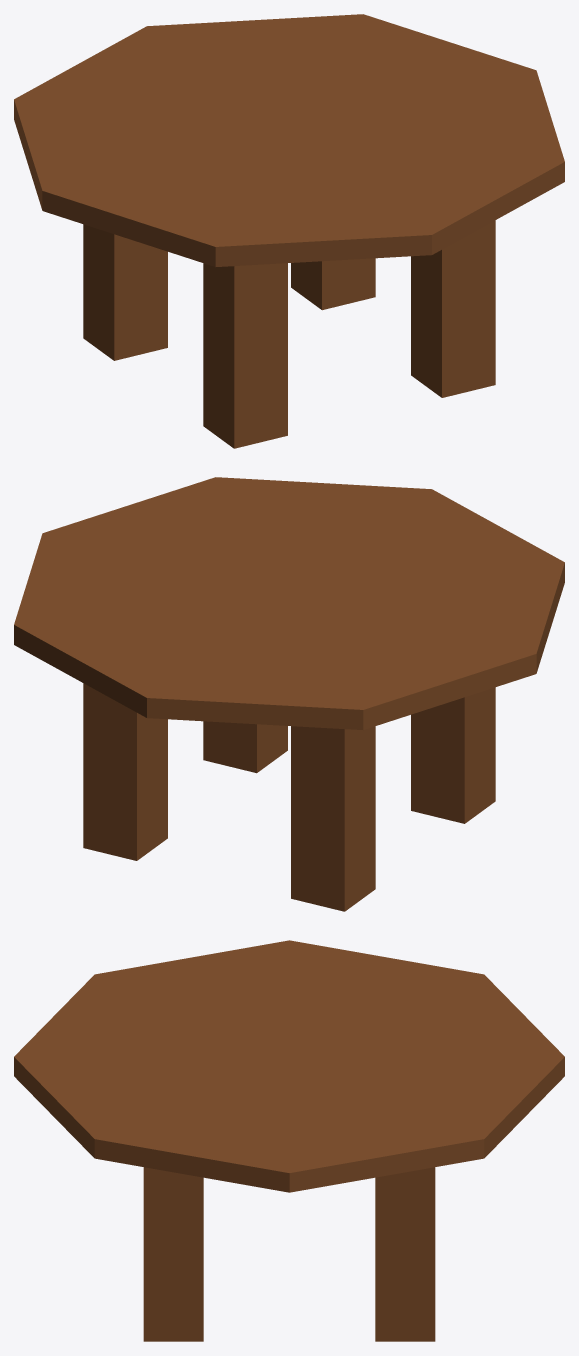
File: stolik.fbx
3 renders of one model, top to bottom at view 1: azimuth 30°, elevation 25°; view 2: azimuth 150°, elevation 25°; view 3: azimuth 270°, elevation 25°, orthographic. The views are drawn at different scales.
Visible parts, largest first — view 1: stolik; view 2: stolik; view 3: stolik.
Part boxes in pixels (box(x1,y1,x2,y2)): stolik: box(14, 14, 564, 448); stolik: box(14, 477, 564, 911); stolik: box(14, 940, 564, 1341).
Size of the model in its own units: 49.23 by 49.23 by 22.
